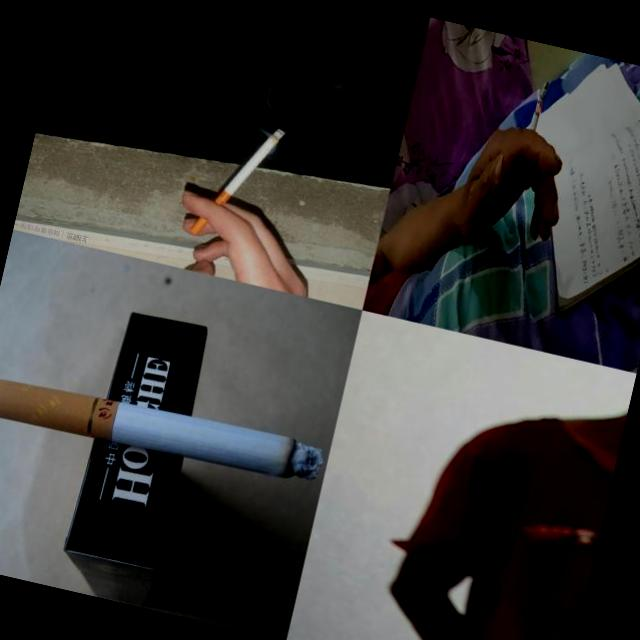smoke: (0, 365, 328, 494), (187, 113, 286, 250), (514, 78, 549, 180)
